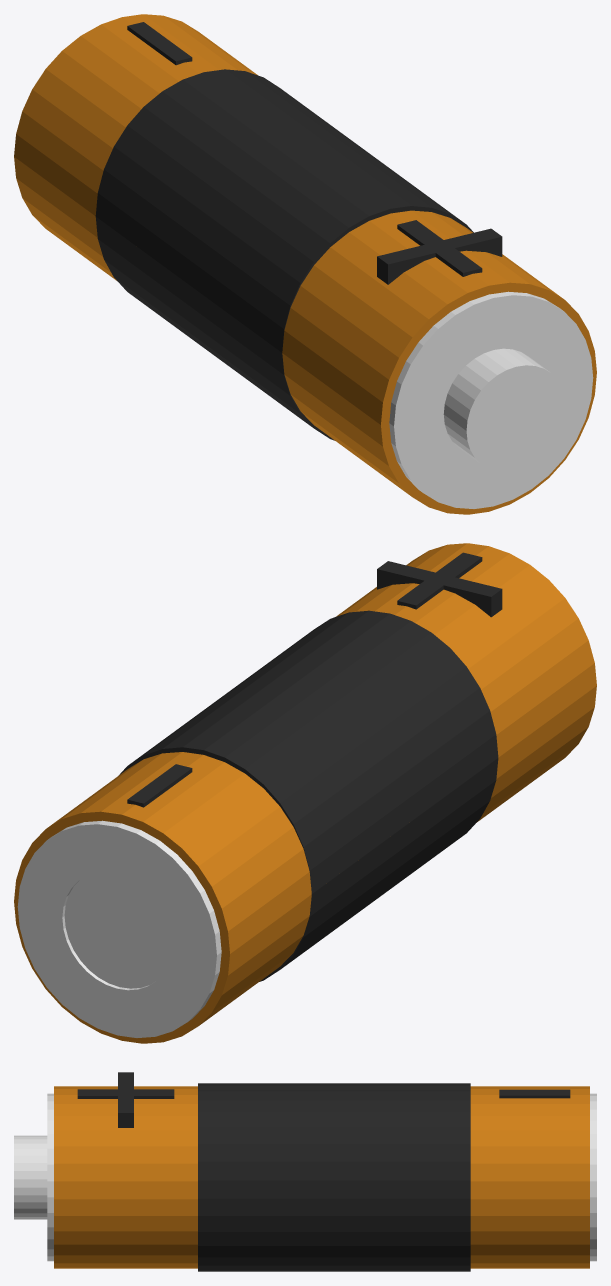
File: BATTERY.fbx
3 renders of one model, top to bottom at view 1: azimuth 30°, elevation 25°; view 2: azimuth 150°, elevation 25°; view 3: azimuth 270°, elevation 25°, orthographic. The views are drawn at different scales.
Visible parts, largest first — view 1: Battery; view 2: Battery; view 3: Battery.
Part boxes in pixels (bbox=[...]): Battery: bbox=[14, 14, 596, 514]; Battery: bbox=[14, 543, 596, 1043]; Battery: bbox=[14, 1072, 596, 1271].
Size of the model in its own units: 200 by 208 by 640.
